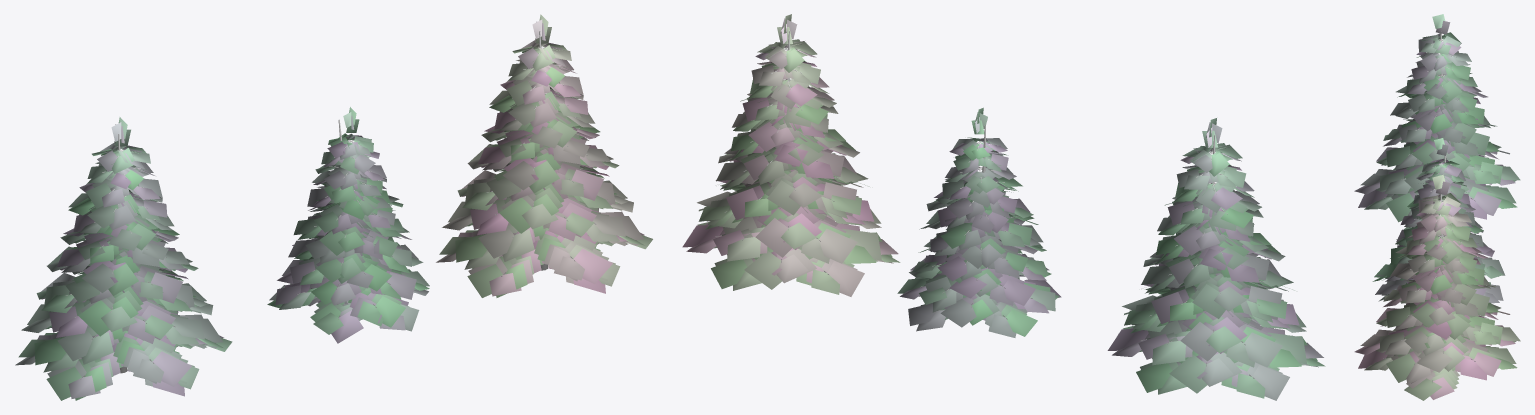
The model's file is Deodar.fbx.
3 renders of one model, left to right at view 1: azimuth 30°, elevation 25°; view 2: azimuth 150°, elevation 25°; view 3: azimuth 270°, elevation 25°, orthographic. The views are drawn at different scales.
Visible parts, largest first — view 1: Deodar_A_LOD0, DeodarSnow_Snow_LOD0, Deodar_B_LOD0; view 2: Deodar_A_LOD0, DeodarSnow_Snow_LOD0, Deodar_B_LOD0; view 3: DeodarSnow_Snow_LOD0, Deodar_A_LOD0, Deodar_B_LOD0.
Boxes of the visible parts, x1,y1,x2,y2 form: Deodar_A_LOD0: (15,117,232,400); DeodarSnow_Snow_LOD0: (436,14,652,297); Deodar_B_LOD0: (267,107,429,343); Deodar_A_LOD0: (1107,118,1325,400); DeodarSnow_Snow_LOD0: (682,14,900,296); Deodar_B_LOD0: (897,107,1061,337); DeodarSnow_Snow_LOD0: (1354,174,1520,400); Deodar_A_LOD0: (1354,14,1520,229); Deodar_B_LOD0: (1372,138,1505,303).
Size of what is drawn, in the model's own units: 42.83 by 17.03 by 13.
